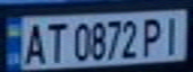0: (69, 18, 93, 62)
2: (118, 16, 142, 58)
7: (106, 17, 124, 61)
8: (87, 17, 109, 61)
A: (18, 19, 48, 65)
I: (157, 13, 187, 55)
P: (139, 15, 169, 57)
T: (42, 19, 69, 63)
